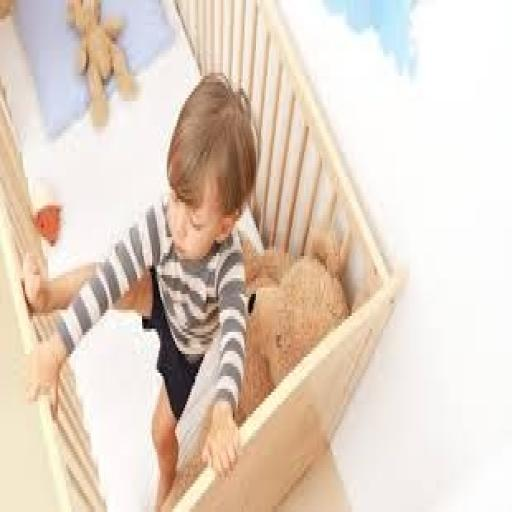baby: (24, 73, 257, 511)
crib: (0, 0, 408, 512)
